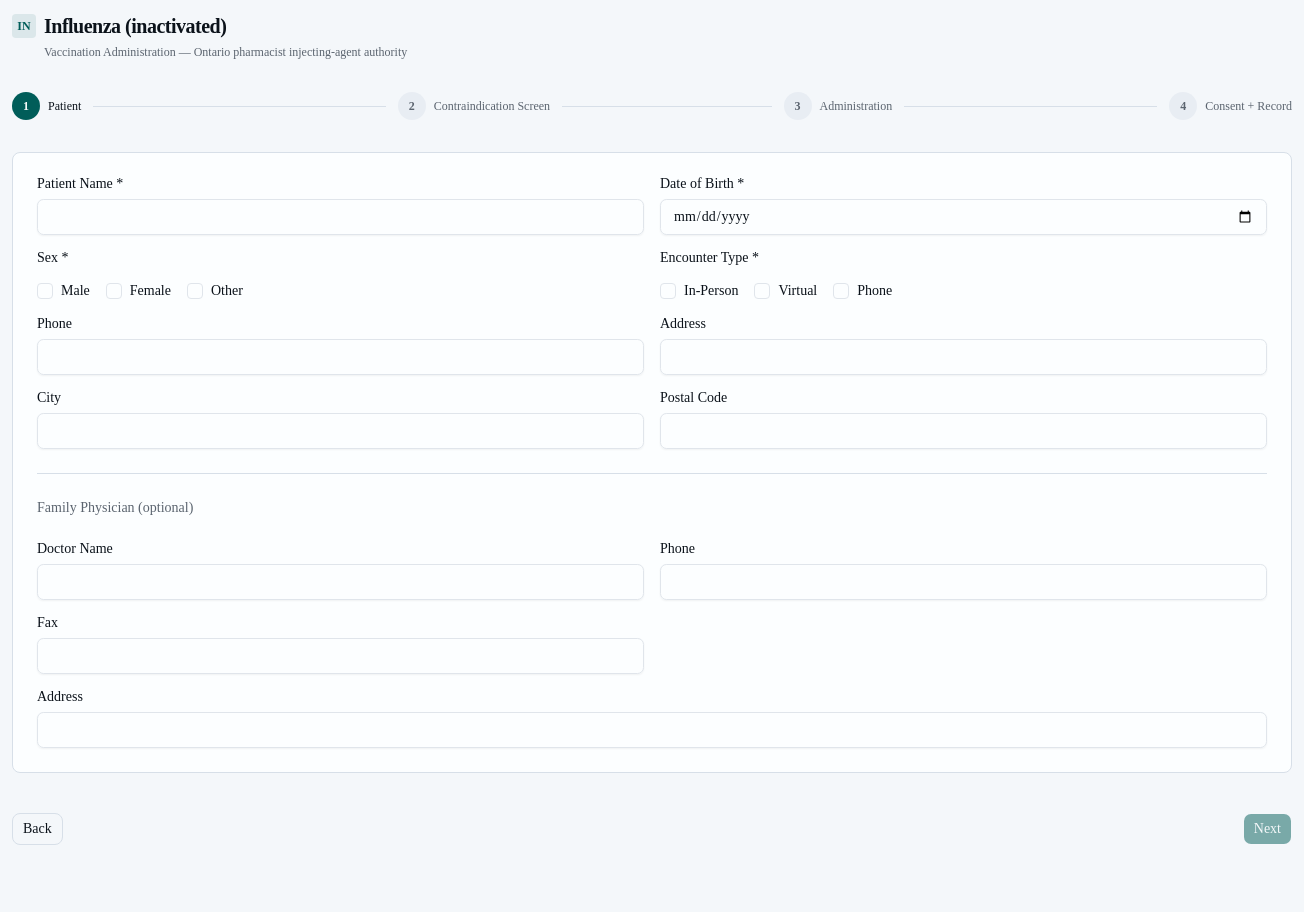
Test: VaccinationWizard gating › shows the In-Person guard and blocks Next for a Virtual encounter
The width and height of the screenshot is (1304, 912).
Type "Jane Doe" into the field labelled "Patient Name *". click: [340, 217]
box: [37,199,644,235]
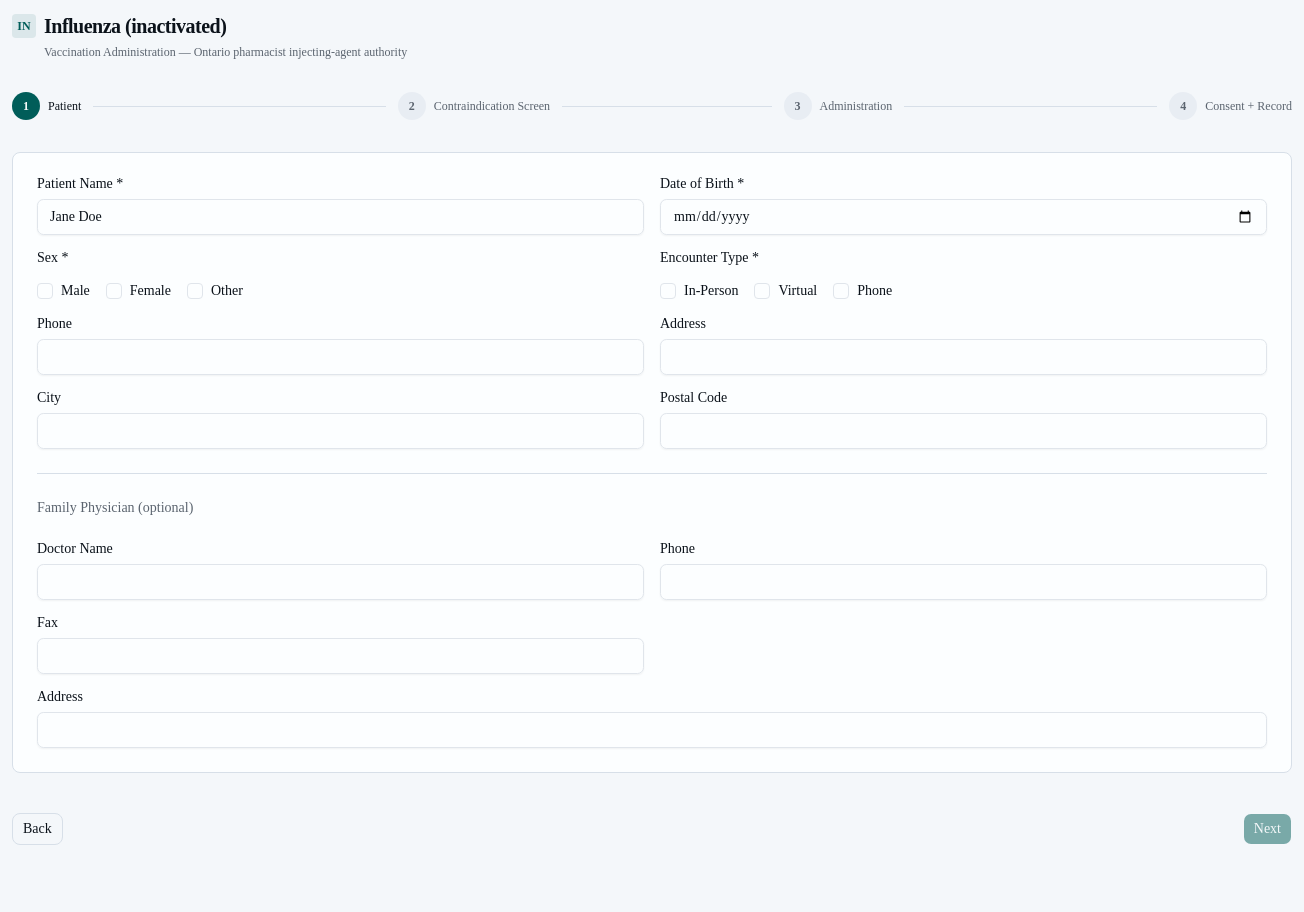
Type "1990-01-01" into the date field labelled "Date of Birth *". click: [964, 217]
box: [660,199,1267,235]
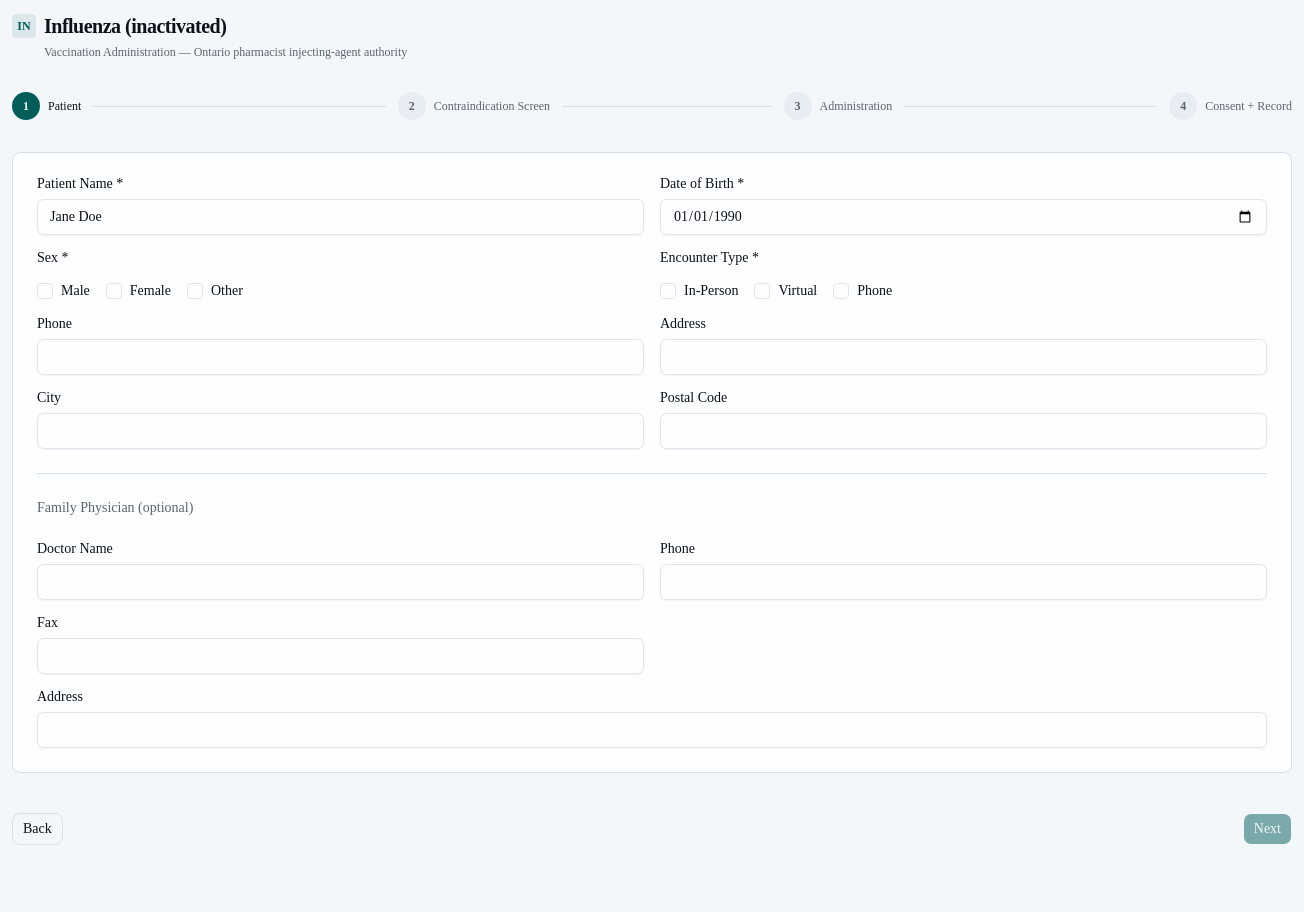
Click the checkbox named "Virtual" next to "Virtual". click: [762, 291]
box: [754,283,770,299]
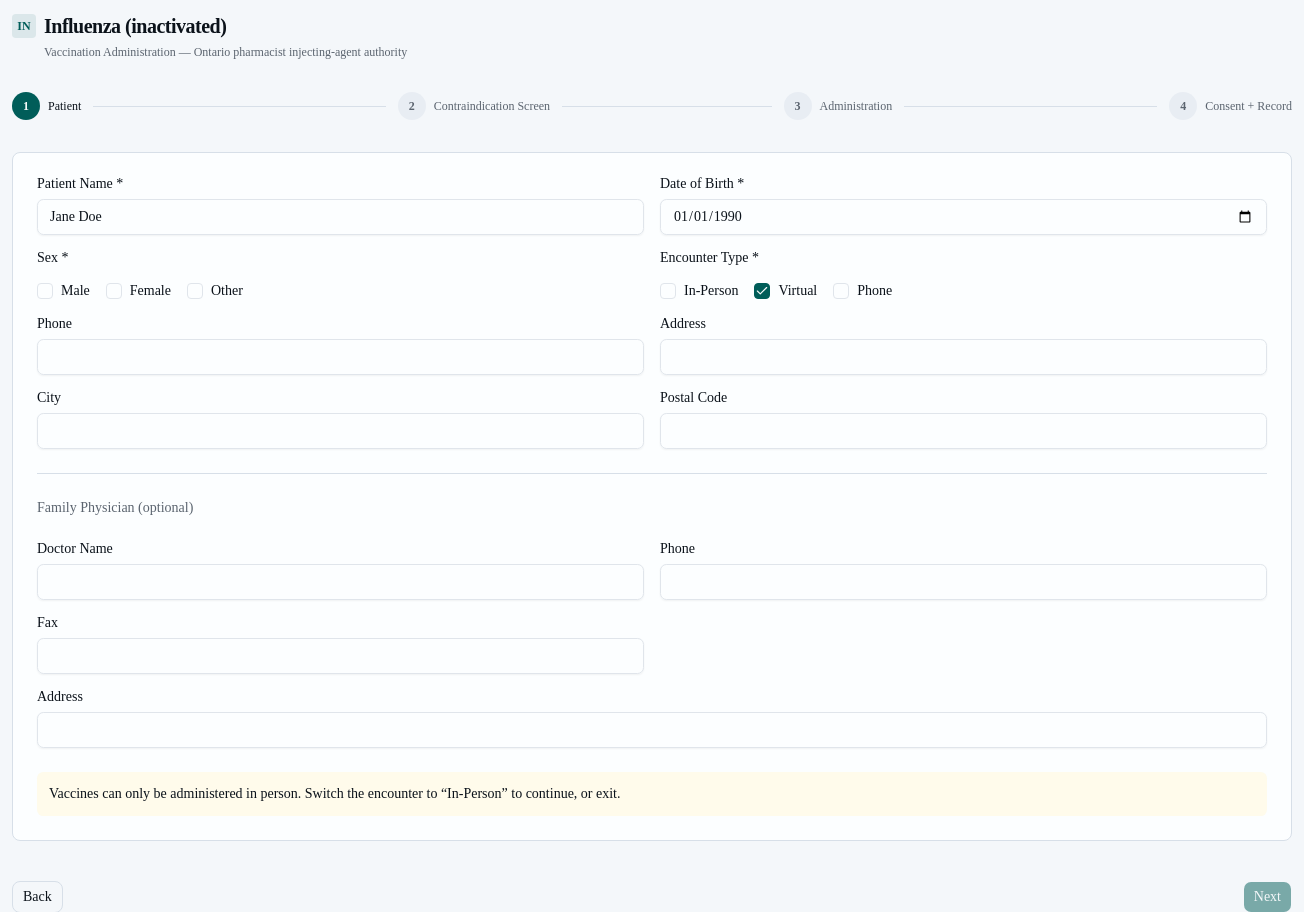
Expected: the button "Next" is disabled, [1243,881,1292,911]
Result: the text "Vaccines can only be administered in person" is shown at [49,786,620,801]
